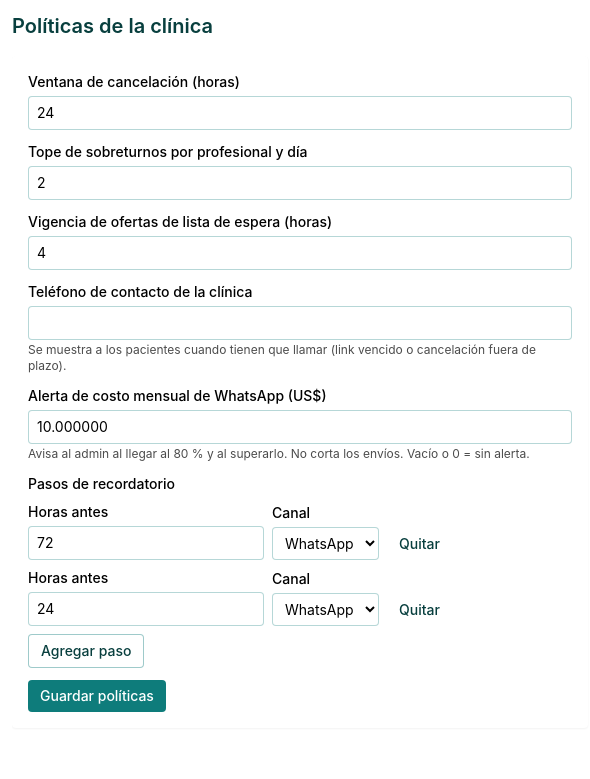
alerta de costo de WhatsApp en políticas › vaciar el campo apaga la alerta (manda 0)
Clear the number field labelled "Alerta de costo mensual de WhatsApp (US$)" at (300, 427), box [28, 410, 572, 444]
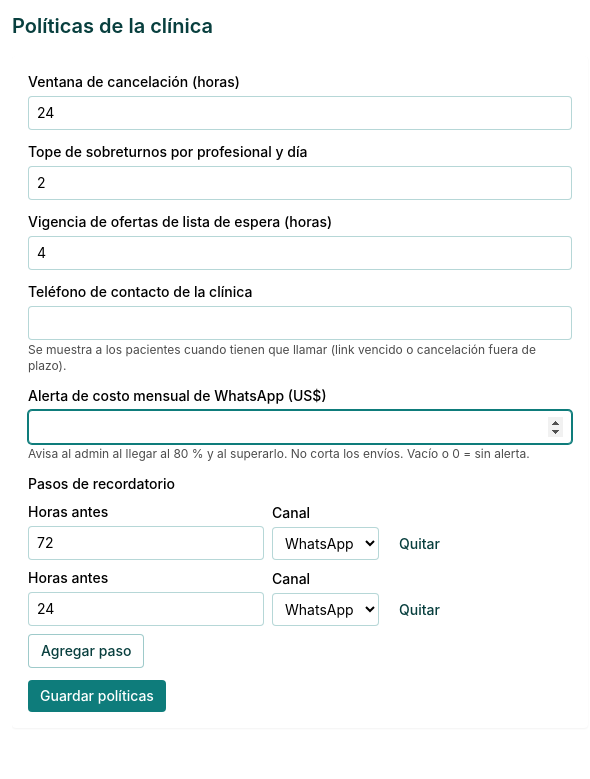
Click the button "Guardar políticas" at (97, 696), box [28, 680, 166, 712]
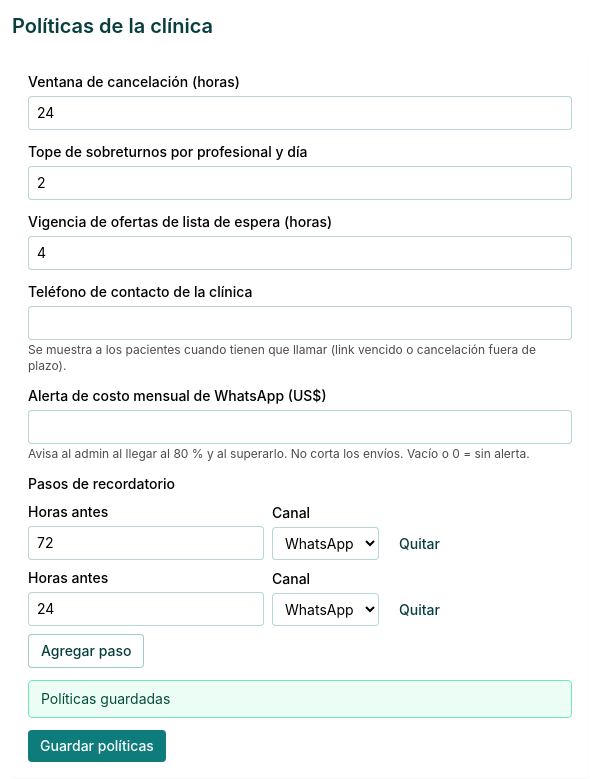
Check: the text "Políticas guardadas" is shown, box [28, 680, 572, 718]
